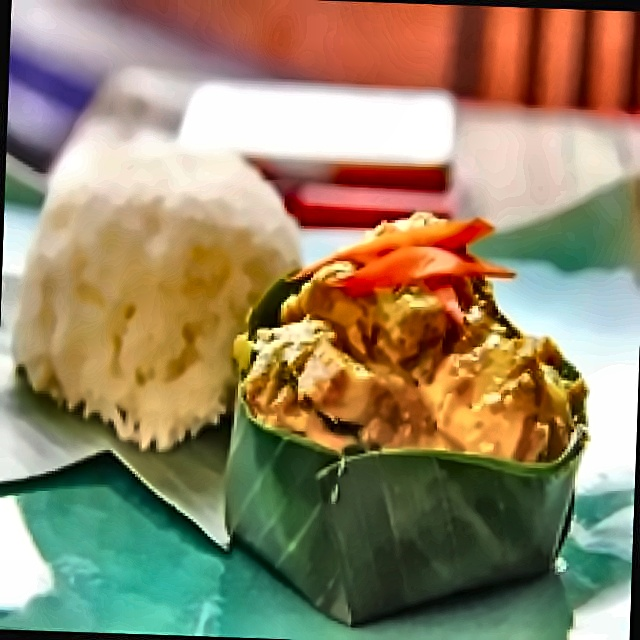rice: (10, 132, 298, 453)
